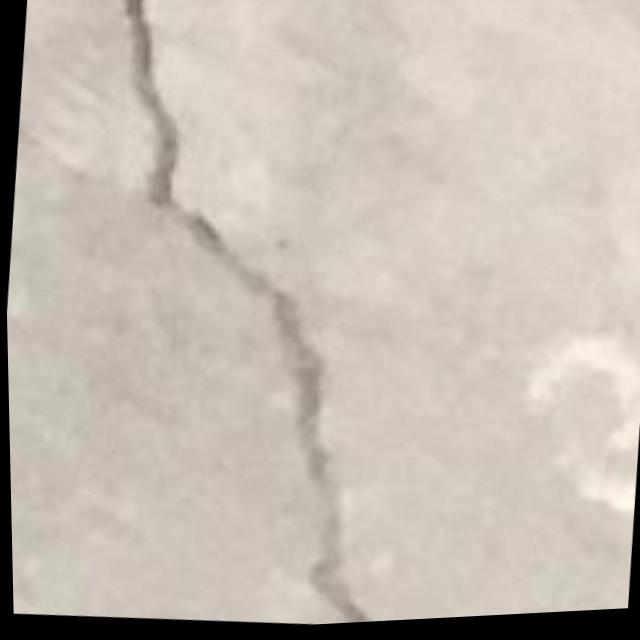Crack: (58, 0, 436, 638)
